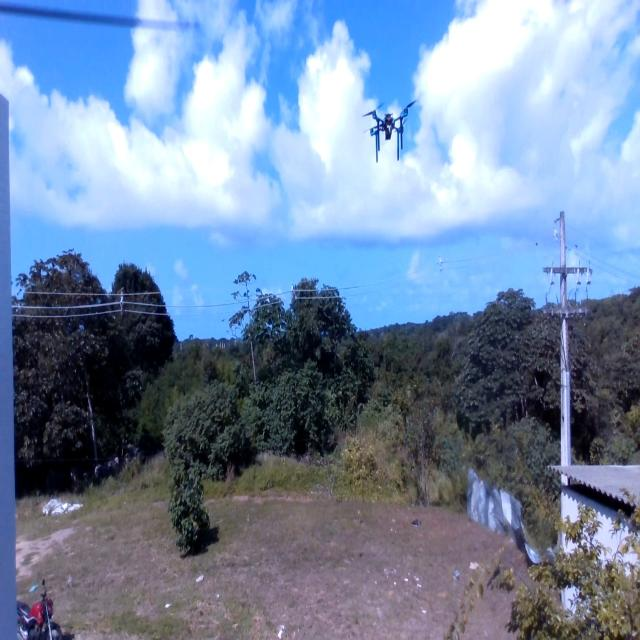-uav-: (356, 90, 422, 169)
